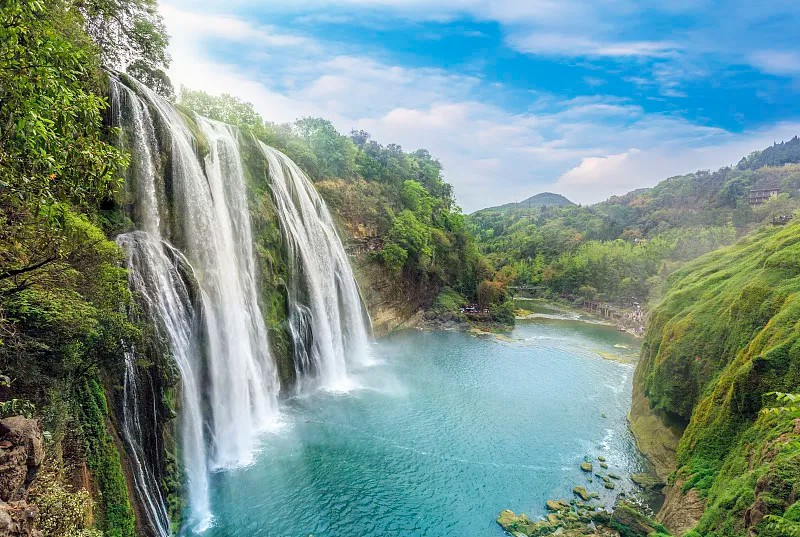Huangguoshu: (104, 67, 381, 537)
